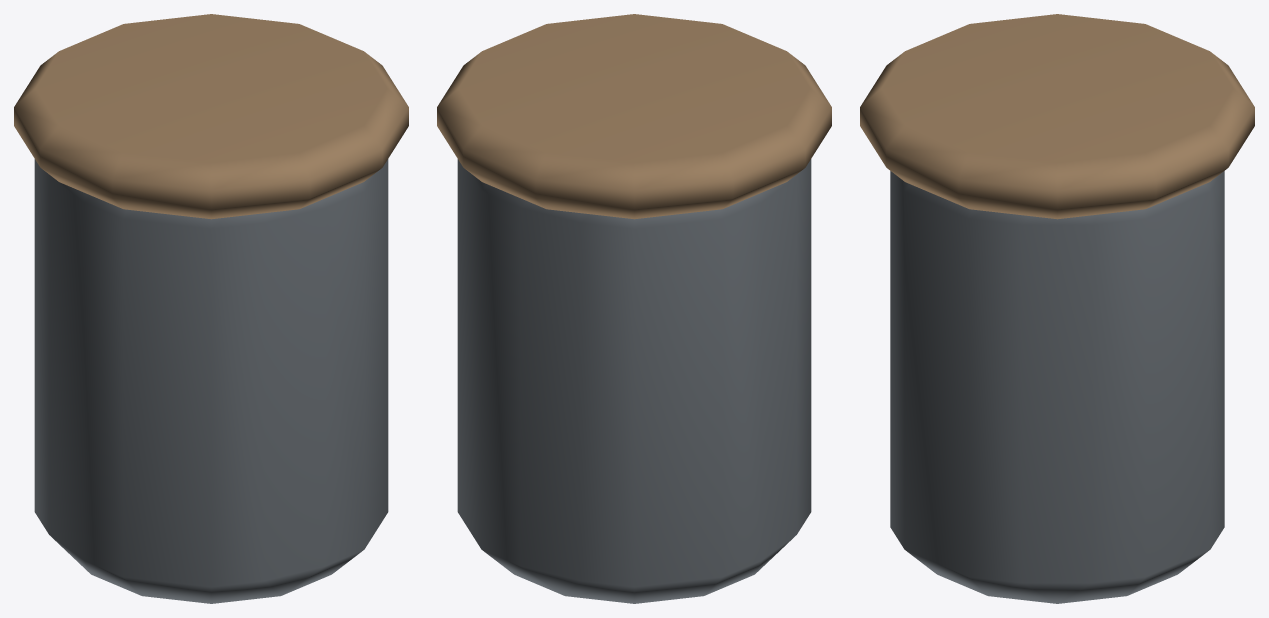
The picture shows the model from 3 angles, left to right: view 1: azimuth 30°, elevation 25°; view 2: azimuth 150°, elevation 25°; view 3: azimuth 270°, elevation 25°; orthographic projection.
Visible parts, largest first — view 1: LOD2_BIN_CIVIC_Body, LOD2_BIN_CIVIC_Lid; view 2: LOD2_BIN_CIVIC_Body, LOD2_BIN_CIVIC_Lid; view 3: LOD2_BIN_CIVIC_Body, LOD2_BIN_CIVIC_Lid.
Part boxes in pixels (bbox=[...]): LOD2_BIN_CIVIC_Body: bbox=[34, 159, 388, 603]; LOD2_BIN_CIVIC_Lid: bbox=[14, 14, 408, 219]; LOD2_BIN_CIVIC_Body: bbox=[457, 159, 811, 603]; LOD2_BIN_CIVIC_Lid: bbox=[437, 14, 831, 219]; LOD2_BIN_CIVIC_Body: bbox=[890, 171, 1224, 603]; LOD2_BIN_CIVIC_Lid: bbox=[860, 14, 1254, 219].
Size of what is drawn, in the model's own units: 0.76 by 0.97 by 0.76.
